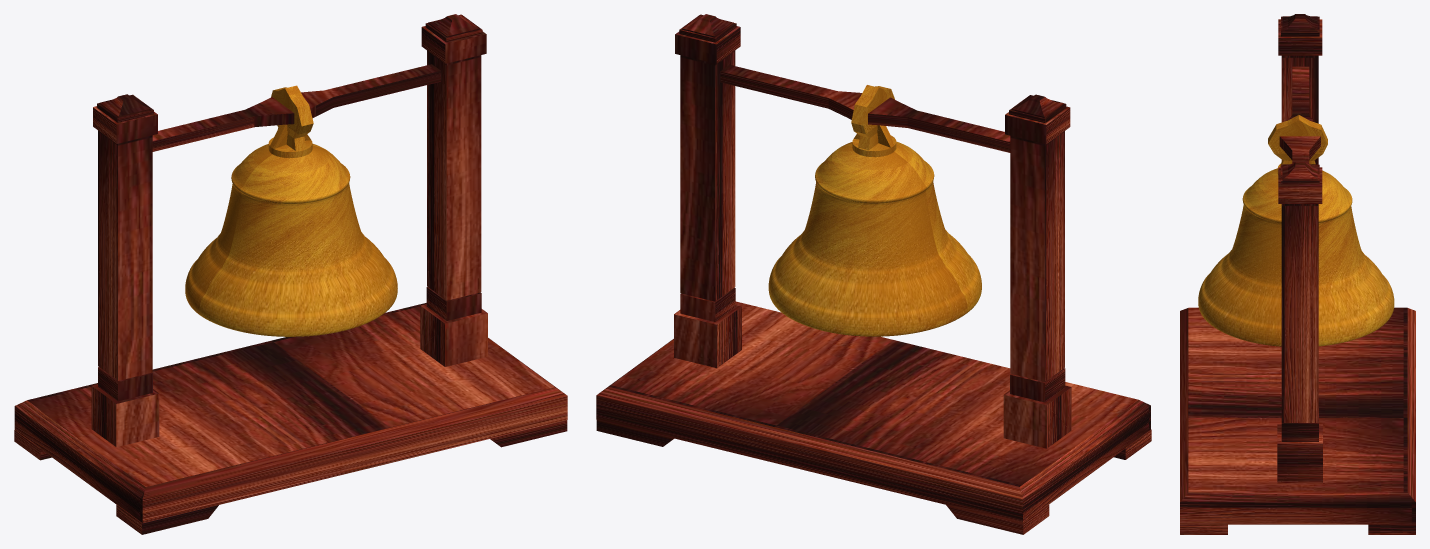
Rendered from sino.fbx.
3 views of the same model, side by side, from view 1: azimuth 30°, elevation 25°; view 2: azimuth 150°, elevation 25°; view 3: azimuth 270°, elevation 25° (orthographic). The views are drawn at different scales.
Visible parts, largest first — view 1: Base, sino; view 2: Base, sino; view 3: Base, sino.
Boxes of the visible parts, left/top/right/bottom form: Base: left=14, top=14, right=567, bottom=534; sino: left=185, top=85, right=397, bottom=336; Base: left=596, top=14, right=1151, bottom=534; sino: left=768, top=85, right=981, bottom=336; Base: left=1180, top=14, right=1415, bottom=534; sino: left=1198, top=115, right=1394, bottom=346.
Bounding box in the file's own units: 185 × 157 × 96.19.
